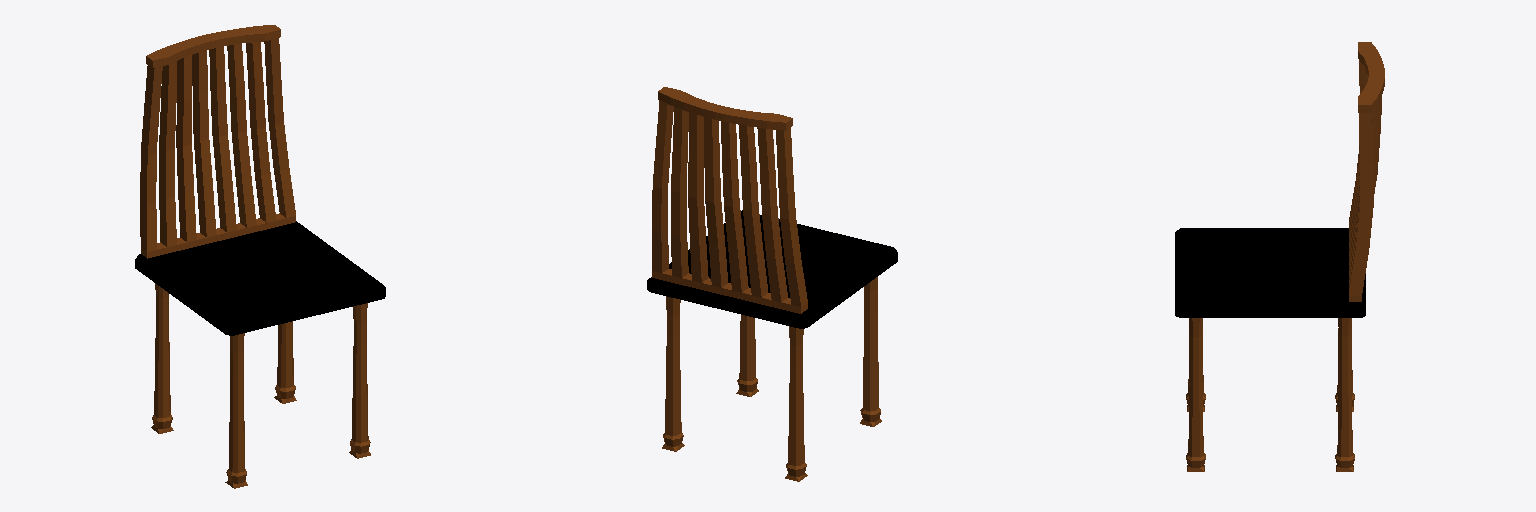
File: TextureChair.obj
3 views of the same model, side by side, from view 1: azimuth 30°, elevation 25°; view 2: azimuth 150°, elevation 25°; view 3: azimuth 270°, elevation 25° (orthographic).
Parts seen in each view (by area): view 1: pCube7; view 2: pCube7; view 3: pCube7.
Part boxes in pixels (left/top/right/bottom): pCube7: left=135, top=25, right=385, bottom=488; pCube7: left=647, top=87, right=897, bottom=481; pCube7: left=1175, top=42, right=1384, bottom=471.
Size of the model in its own units: 4.5 by 9.82 by 5.13.